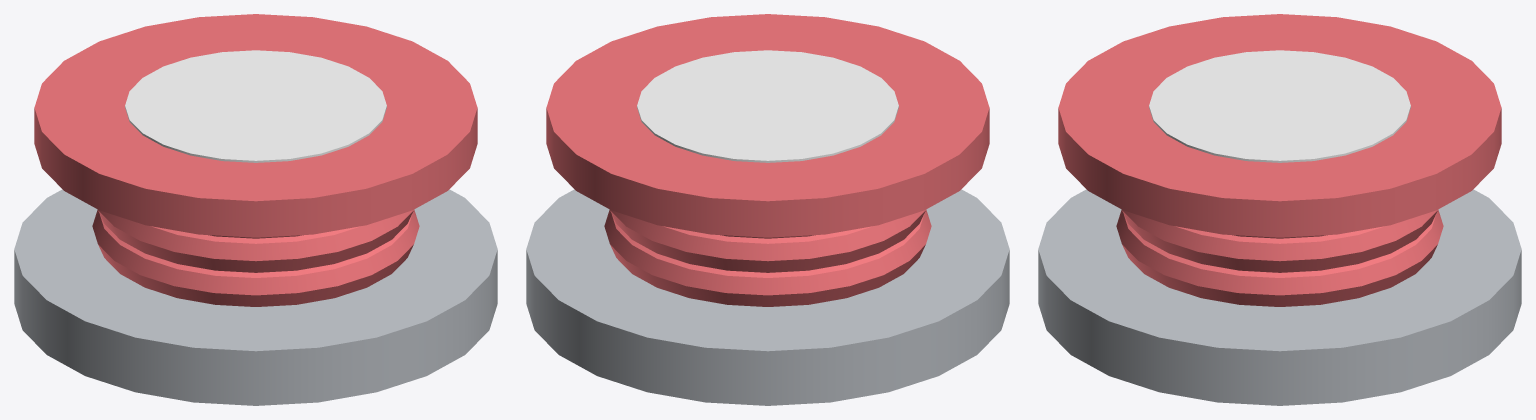
The model's file is spring.glb.
The picture shows the model from 3 angles, left to right: view 1: azimuth 30°, elevation 25°; view 2: azimuth 150°, elevation 25°; view 3: azimuth 270°, elevation 25°; orthographic projection.
Parts seen in each view (by area): view 1: spring; view 2: spring; view 3: spring.
Boxes of the visible parts, x1,y1,x2,y2 form: spring: (14,14,497,405); spring: (526,14,1009,405); spring: (1038,14,1521,405).
Size of the model in its own units: 0.96 by 0.4345 by 0.96.
